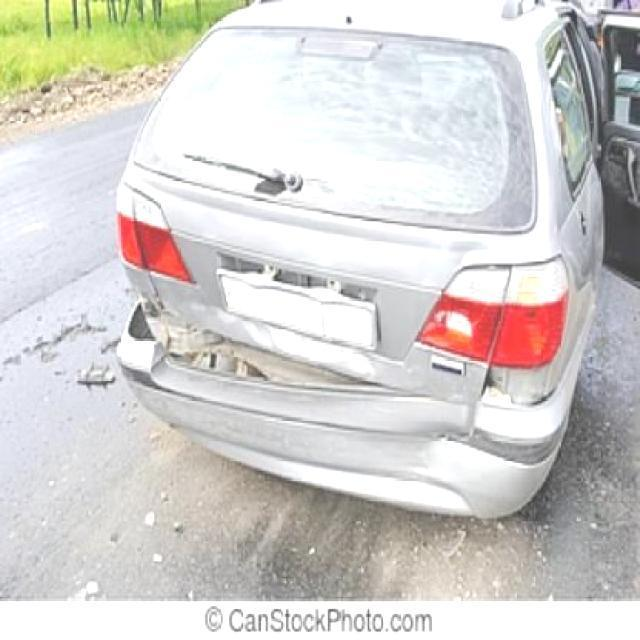minor: (117, 268, 478, 515)
